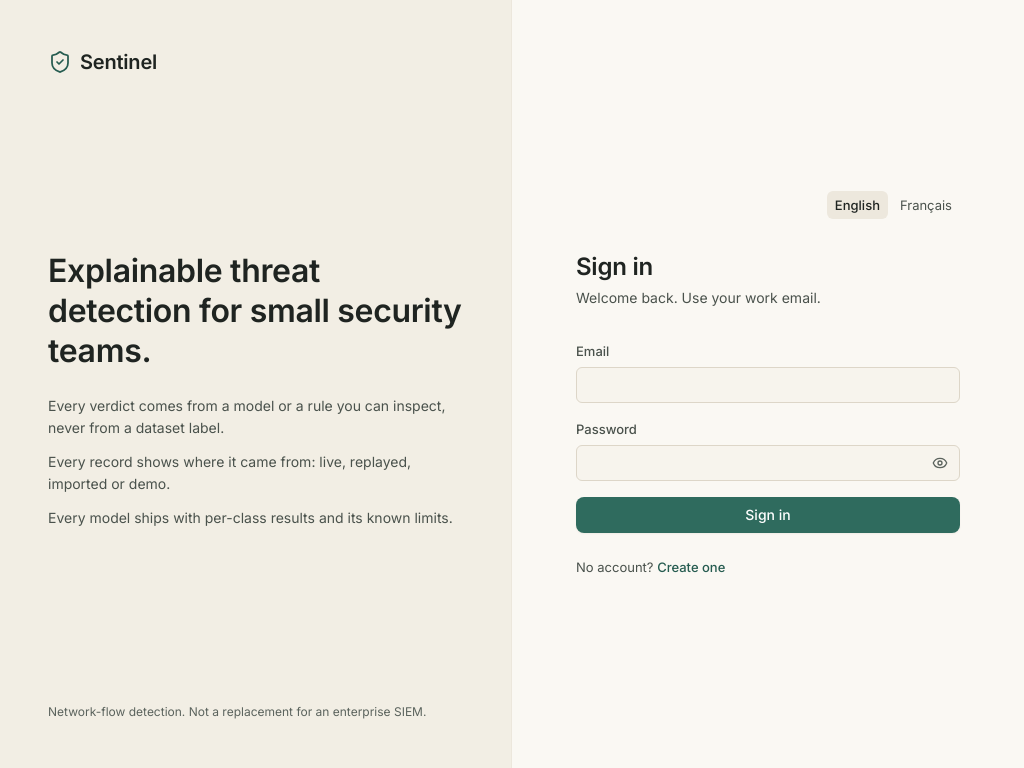
language switch › translates the sign-in page and sets <html lang>
This screenshot has width=1024, height=768.
Expected: the heading "Sign in" is shown, 576,252 -> 653,281
Click the button "Français" at coordinates (926, 205), box 892,191 -> 960,219
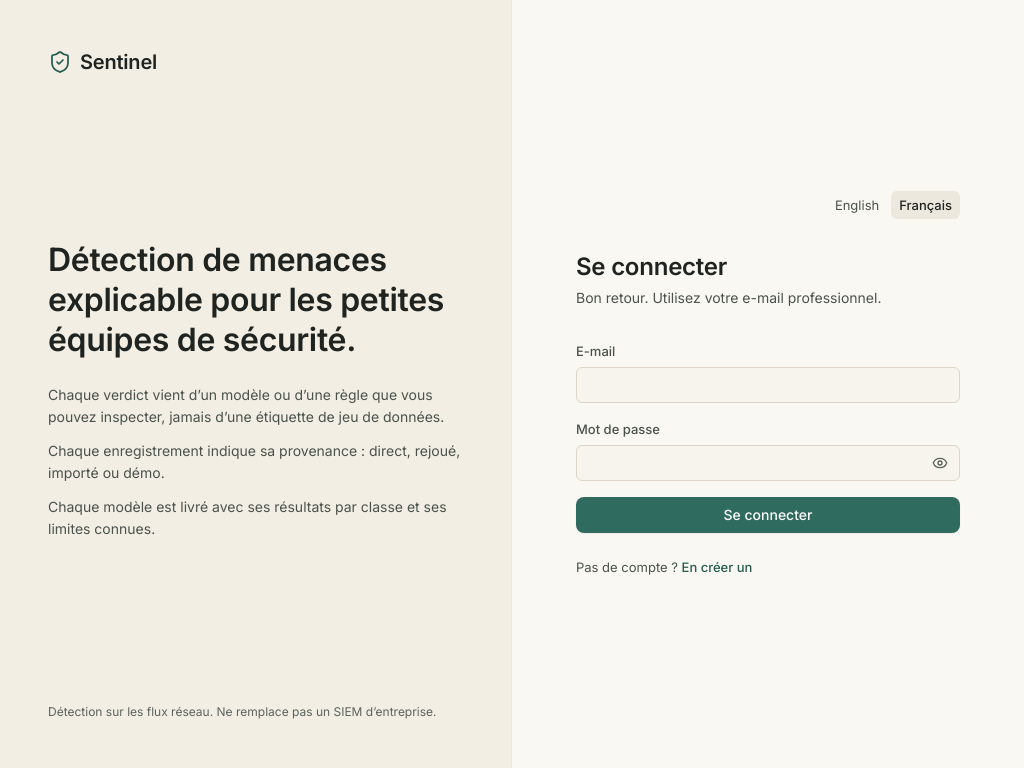
Expected: the password field labelled "Mot de passe" is shown, 576,445 -> 960,481
Expected: the heading "Se connecter" is shown, 576,252 -> 727,281
